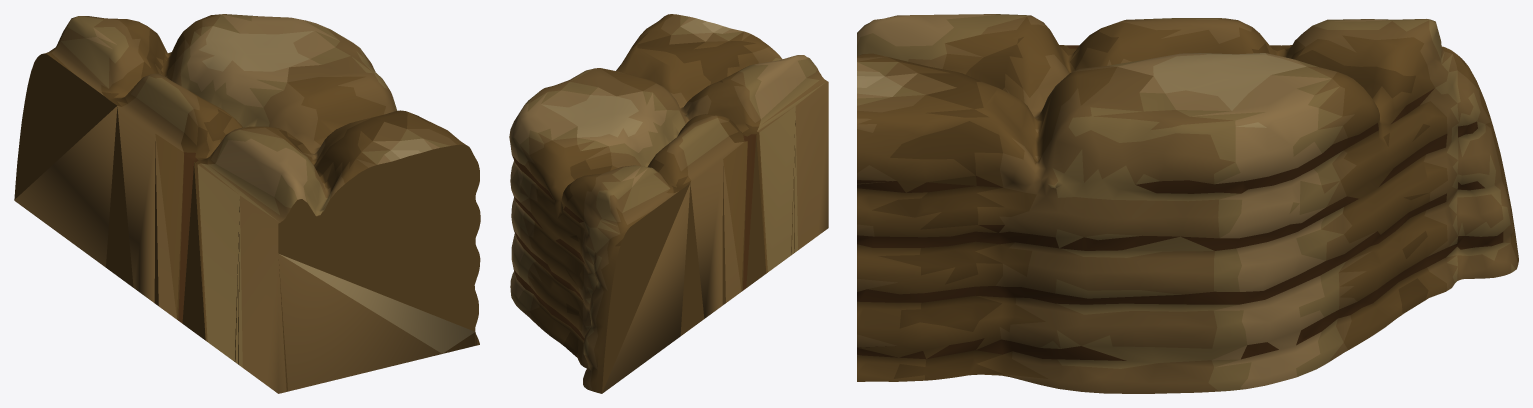
File: ixm_wall_end_r_top.glb
3 views of the same model, side by side, from view 1: azimuth 30°, elevation 25°; view 2: azimuth 150°, elevation 25°; view 3: azimuth 270°, elevation 25° (orthographic). The views are drawn at different scales.
Visible parts, largest first — view 1: ixm_wall_end_r_top; view 2: ixm_wall_end_r_top; view 3: ixm_wall_end_r_top.
Boxes of the visible parts, <box> form: ixm_wall_end_r_top: <box>14,14,480,393</box>; ixm_wall_end_r_top: <box>509,14,828,393</box>; ixm_wall_end_r_top: <box>857,14,1518,393</box>.
Bounding box in the file's own units: 12.06 × 10.89 × 24.9.
